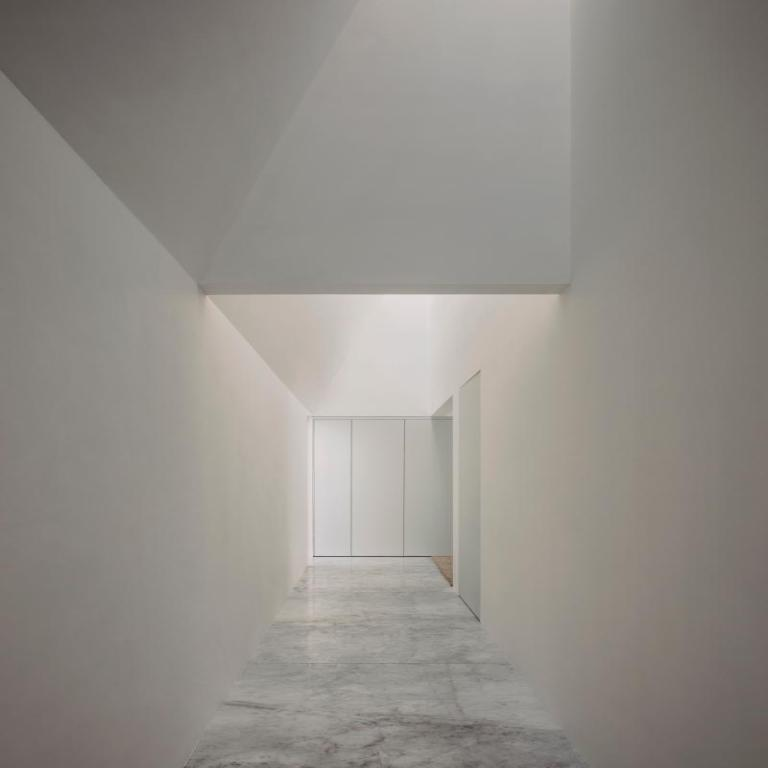white-walls: (24, 306, 714, 642)
